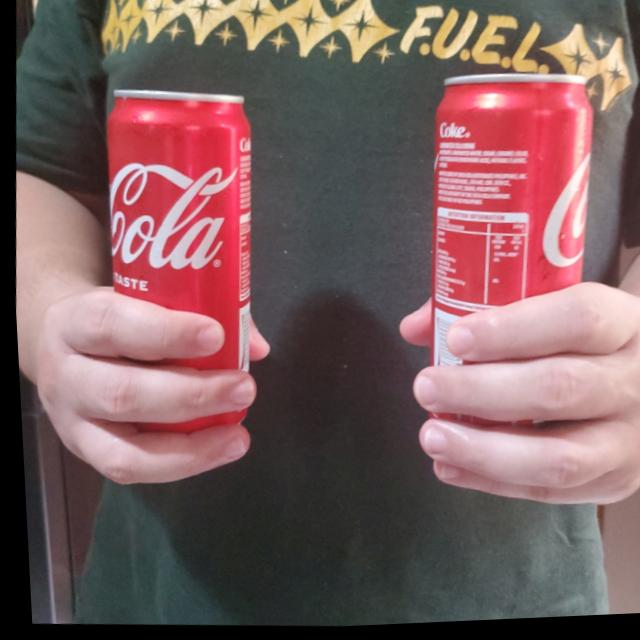coke: (409, 72, 603, 391), (92, 85, 263, 392)
